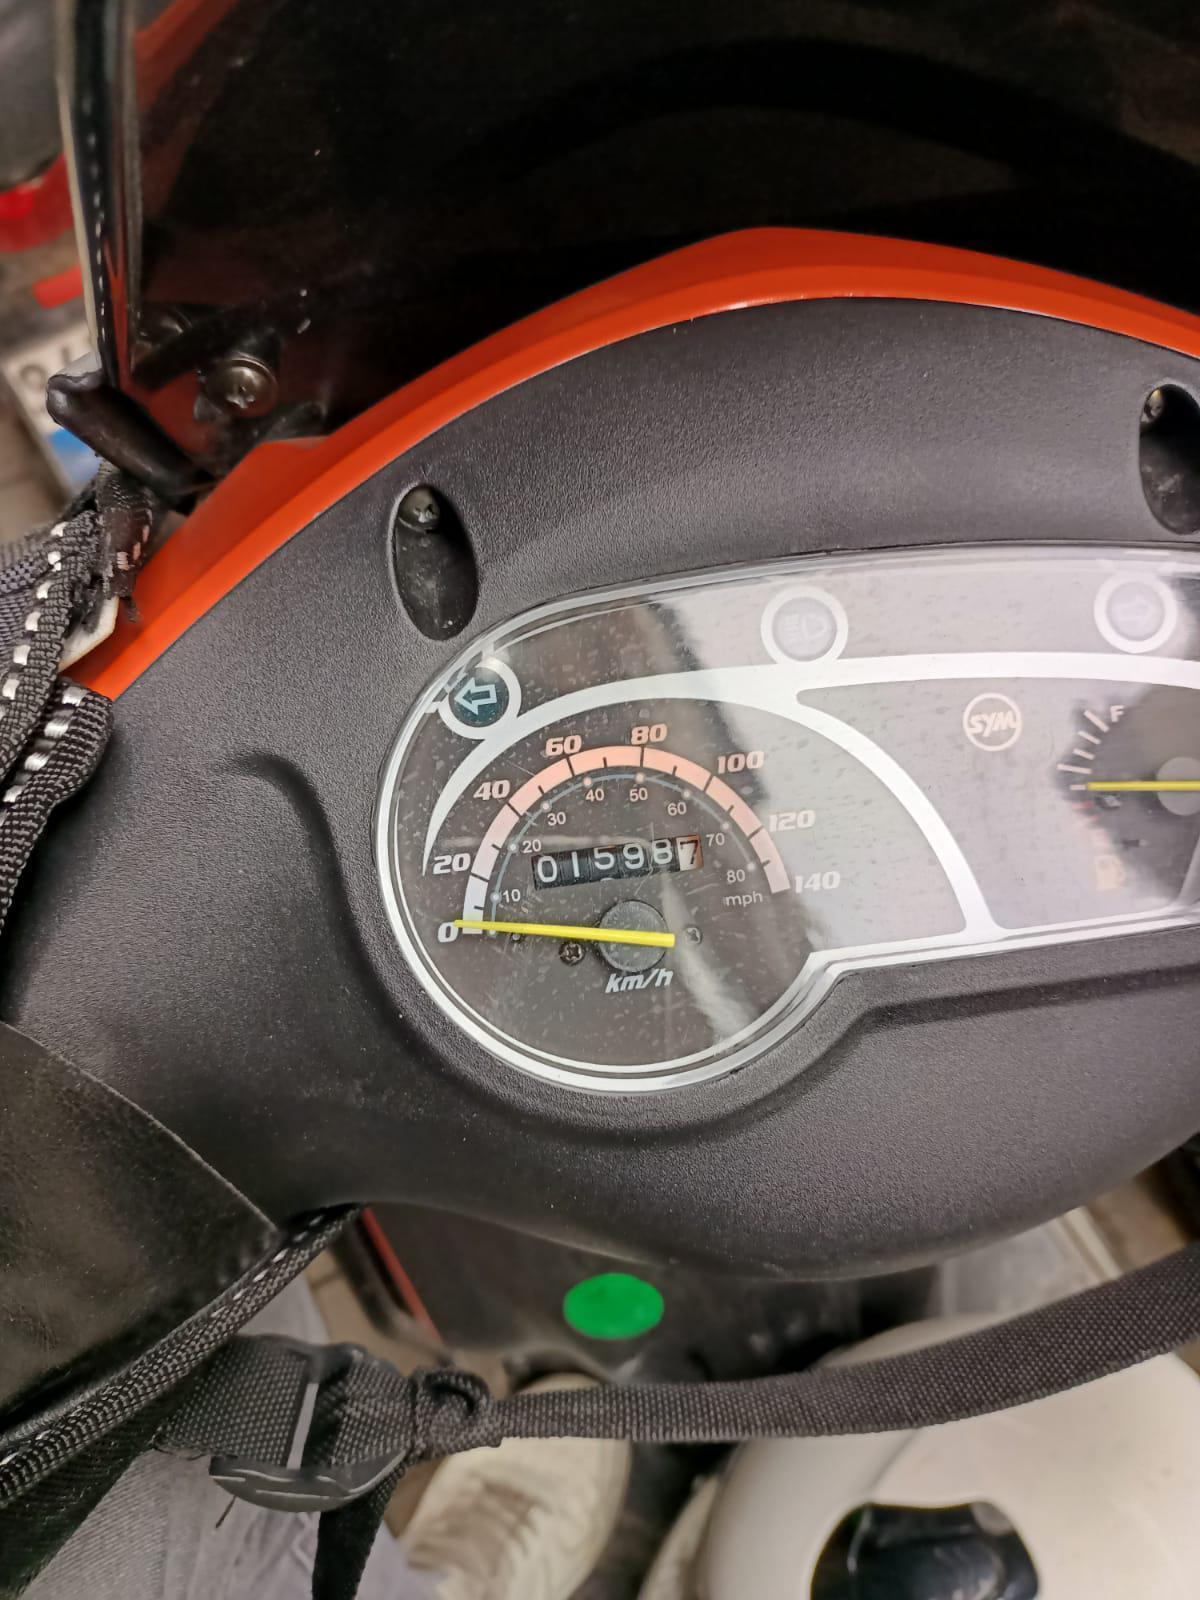0: (534, 855, 558, 884), (532, 838, 542, 850)
1: (568, 847, 584, 889)
2: (522, 839, 531, 854)
5: (591, 842, 616, 873)
7: (676, 838, 701, 871)
8: (649, 835, 673, 867)
9: (621, 842, 645, 871)
odometer: (522, 829, 707, 894)
